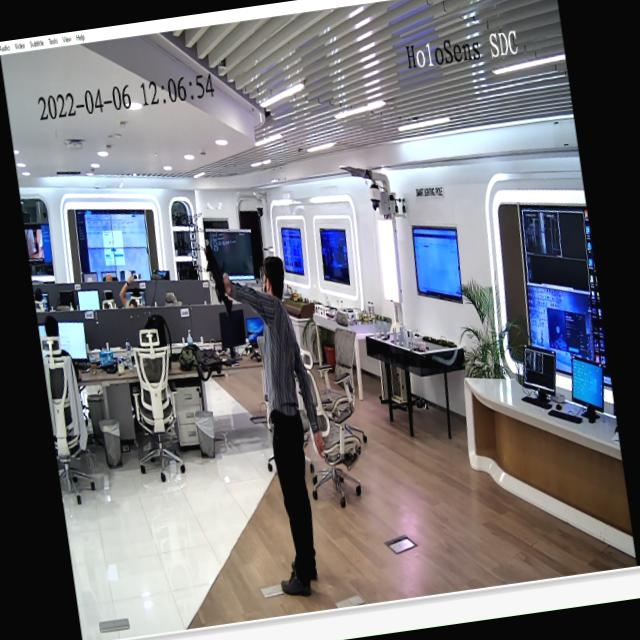long weapon: (194, 227, 243, 327)
